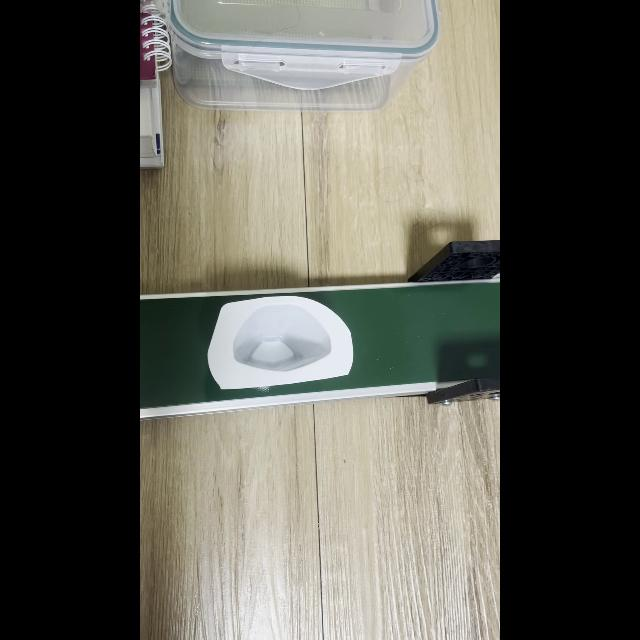clean: (207, 296, 353, 390)
